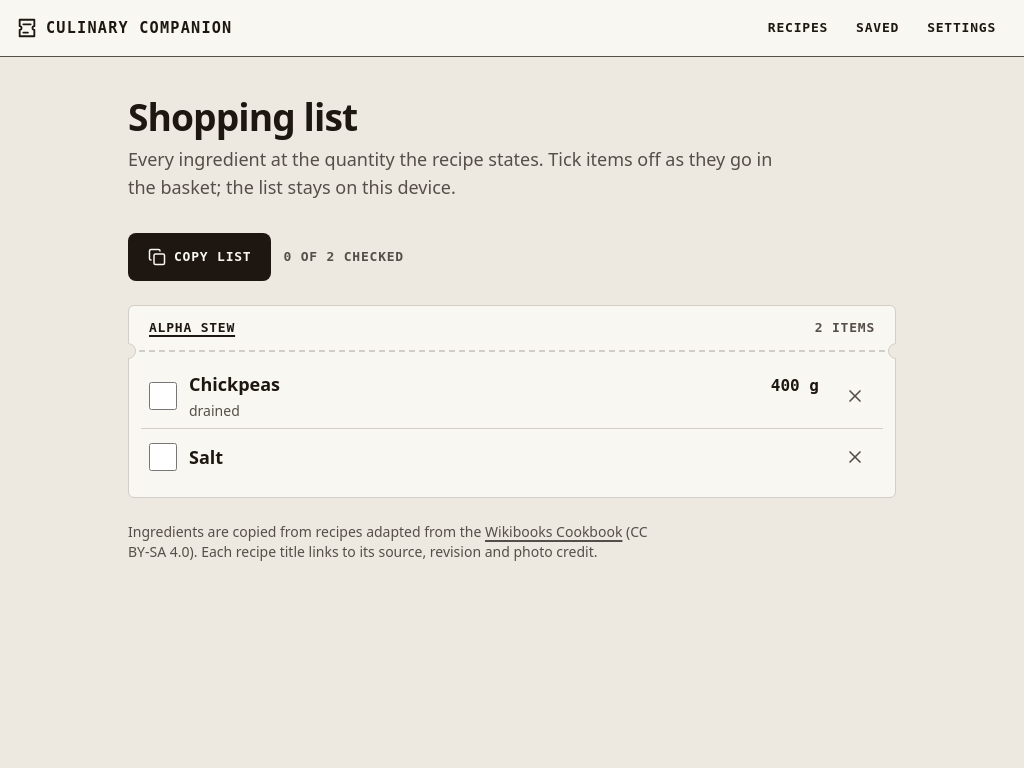
ShoppingListScreen › offers Undo after removing one item and puts it back in place, focused
What coordinates should you click on to do the following:
click the button named "Remove Chickpeas, 400 g from the shopping list"
I would click on:
 (855, 396)
Its box is [827,364,883,428].
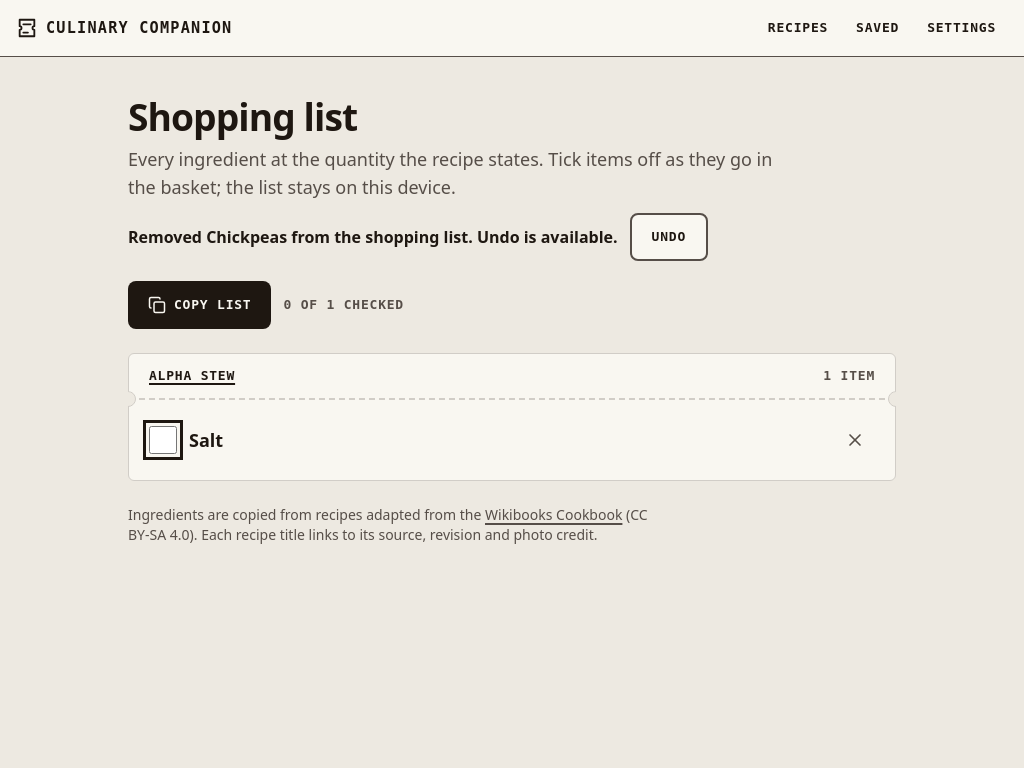
What coordinates should you click on to do the following:
click the button with aria-label "Undo removing Chickpeas from the shopping list"
I would click on:
 (669, 237)
Its box is [630,213,708,261].
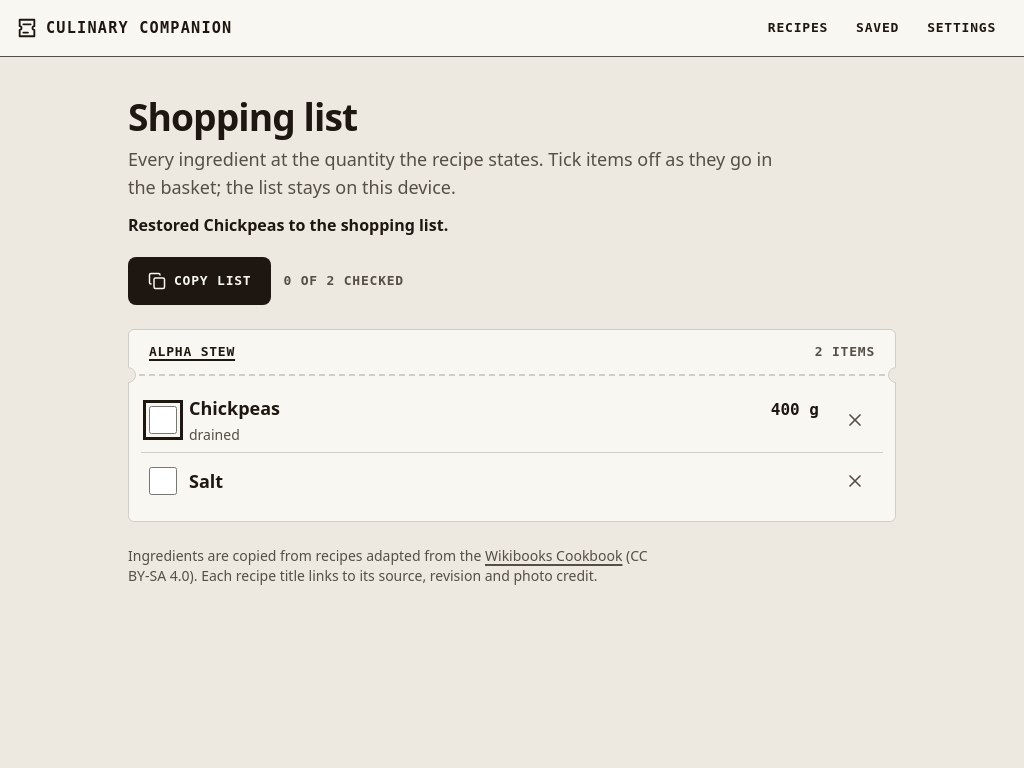
Result: the text "Chickpeas" is shown at [189,396,280,420]
Result: the message reads "Restored Chickpeas to the shopping list." at [128,214,448,236]
